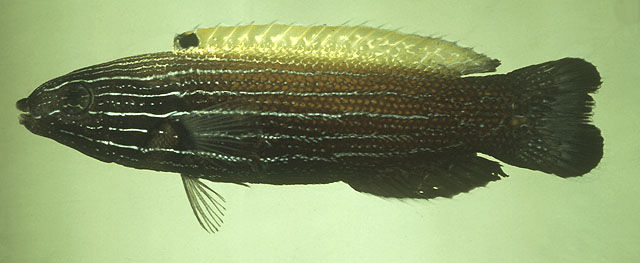fish: (15, 18, 605, 234)
